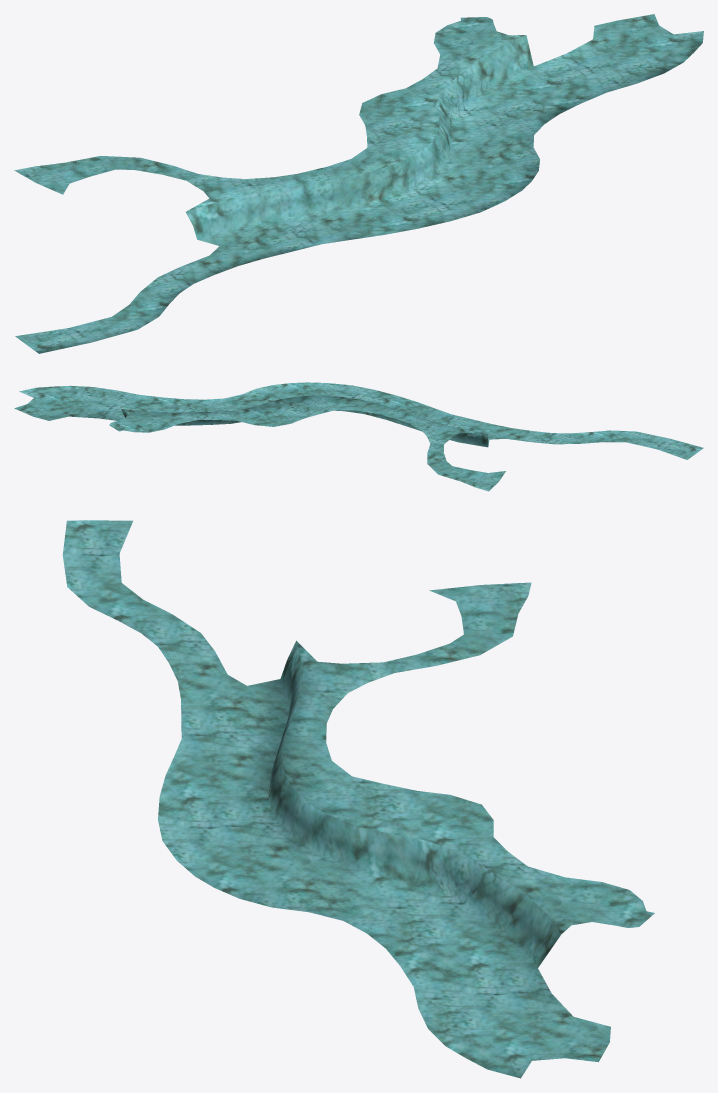
File: EKH_GROTTO_PS_GR_GROTTO_RIVER_BOTTOM_01.fbx
3 views of the same model, one above another, from view 1: azimuth 30°, elevation 25°; view 2: azimuth 150°, elevation 25°; view 3: azimuth 270°, elevation 25° (orthographic). The views are drawn at different scales.
Visible parts, largest first — view 1: EKH_GROTTO_PS_GR_GROTTO_RIVER_BOTTOM_01; view 2: EKH_GROTTO_PS_GR_GROTTO_RIVER_BOTTOM_01; view 3: EKH_GROTTO_PS_GR_GROTTO_RIVER_BOTTOM_01.
Part boxes in pixels (x1=…): EKH_GROTTO_PS_GR_GROTTO_RIVER_BOTTOM_01: x1=14, y1=14, x2=703, y2=353; EKH_GROTTO_PS_GR_GROTTO_RIVER_BOTTOM_01: x1=14, y1=382, x2=703, y2=491; EKH_GROTTO_PS_GR_GROTTO_RIVER_BOTTOM_01: x1=62, y1=520, x2=654, y2=1078.
Bounding box in the file's own units: 424037 × 12245 × 190295.
Materials: 1 (1 with a texture image).
